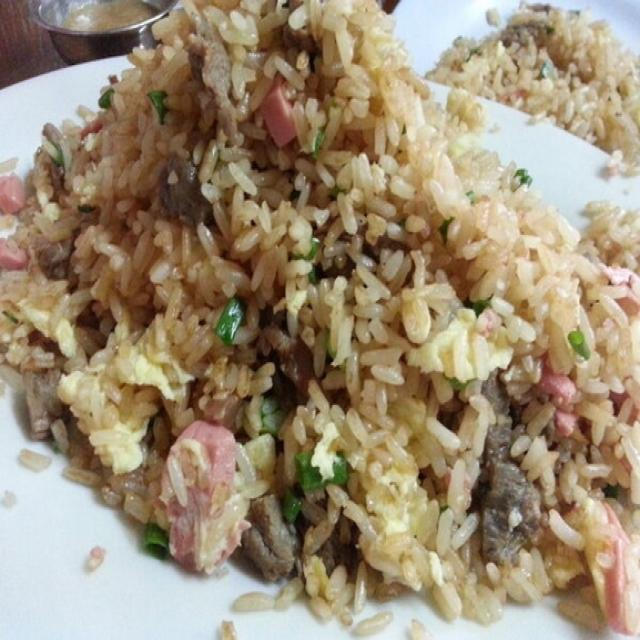米饭主食: (33, 10, 609, 612)
